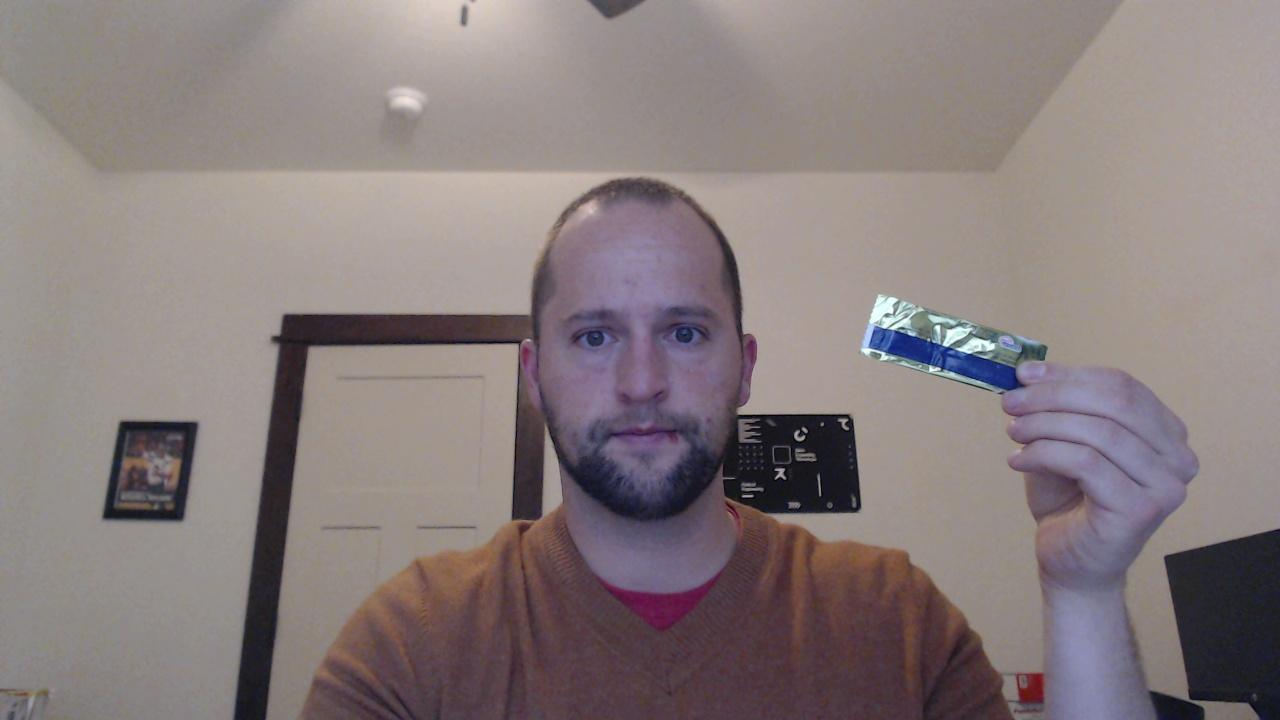airheads: (863, 291, 1054, 395)
